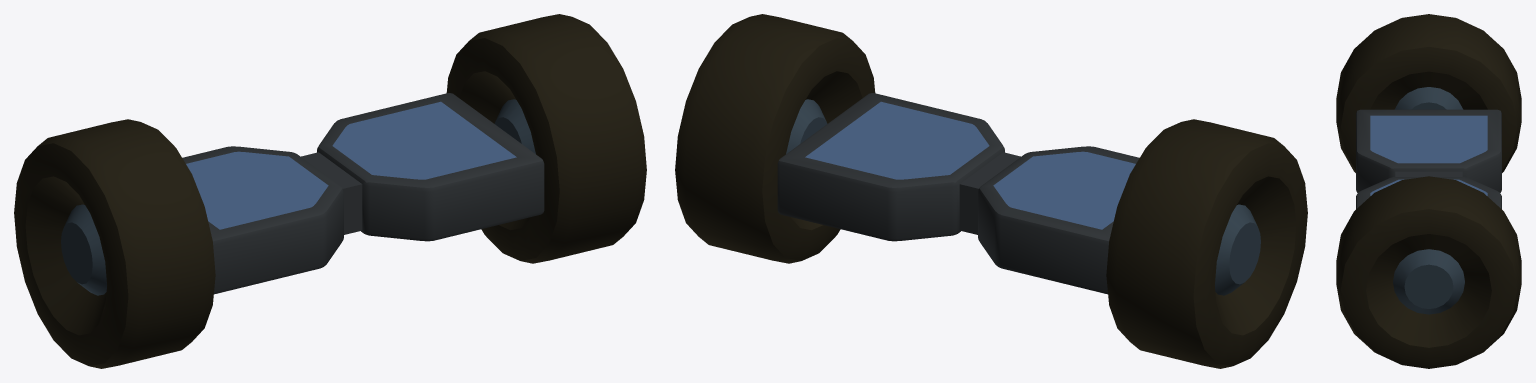
Rendered from 13_mojo.fbx.
3 views of the same model, side by side, from view 1: azimuth 30°, elevation 25°; view 2: azimuth 150°, elevation 25°; view 3: azimuth 270°, elevation 25° (orthographic). The views are drawn at different scales.
Parts seen in each view (by area): view 1: 13_mojo, 13_mojo_a, 13_mojo_b; view 2: 13_mojo, 13_mojo_a, 13_mojo_b; view 3: 13_mojo_b, 13_mojo_a, 13_mojo.
Part boxes in pixels (<box>): 13_mojo: <box>182,93,544,294</box>; 13_mojo_a: <box>14,119,215,368</box>; 13_mojo_b: <box>446,14,646,263</box>; 13_mojo: <box>777,93,1139,294</box>; 13_mojo_a: <box>1106,119,1307,368</box>; 13_mojo_b: <box>675,14,875,263</box>; 13_mojo_b: <box>1336,176,1521,368</box>; 13_mojo_a: <box>1336,14,1521,172</box>; 13_mojo: <box>1356,109,1501,208</box>.
Size of the model in its own units: 98.03 by 38.61 by 38.61.
